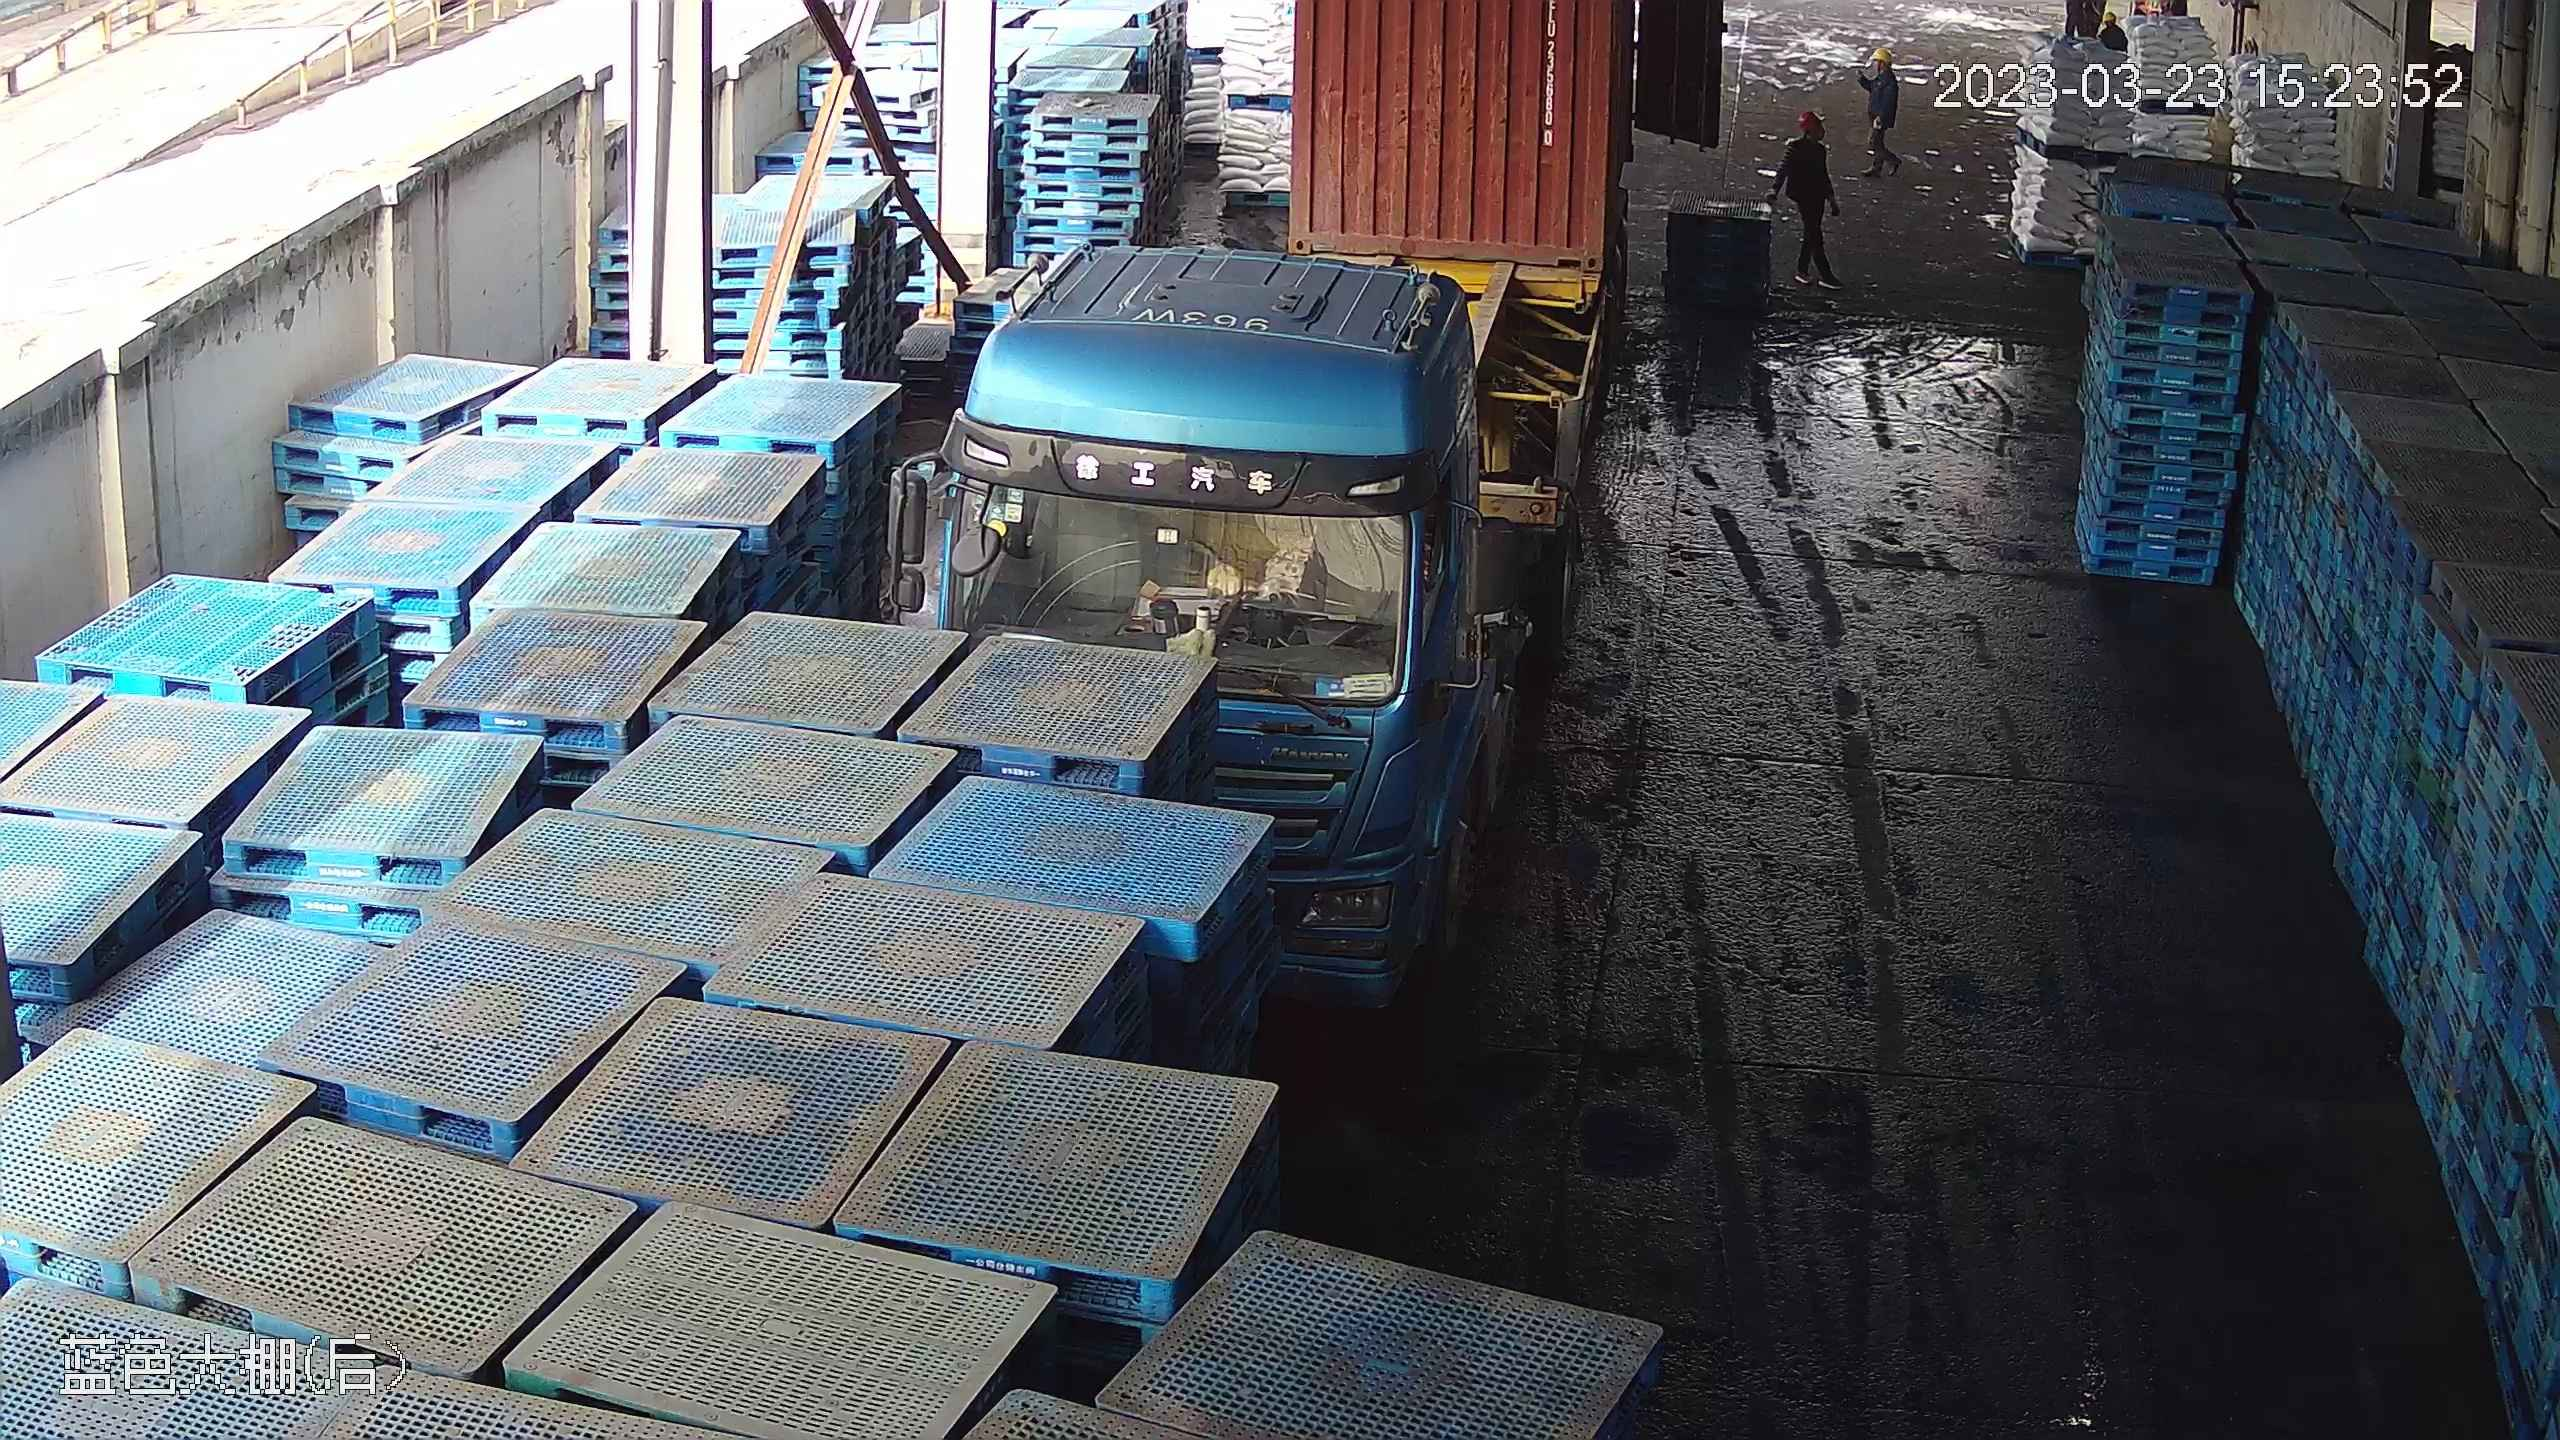head: (1784, 108, 1829, 159), (1866, 45, 1903, 86), (2099, 10, 2127, 45)
helmet: (1869, 46, 1893, 65), (1799, 108, 1822, 127), (2101, 10, 2119, 24)
people: (1776, 106, 1841, 288), (1861, 42, 1910, 172)
truck: (899, 1, 1589, 910)
